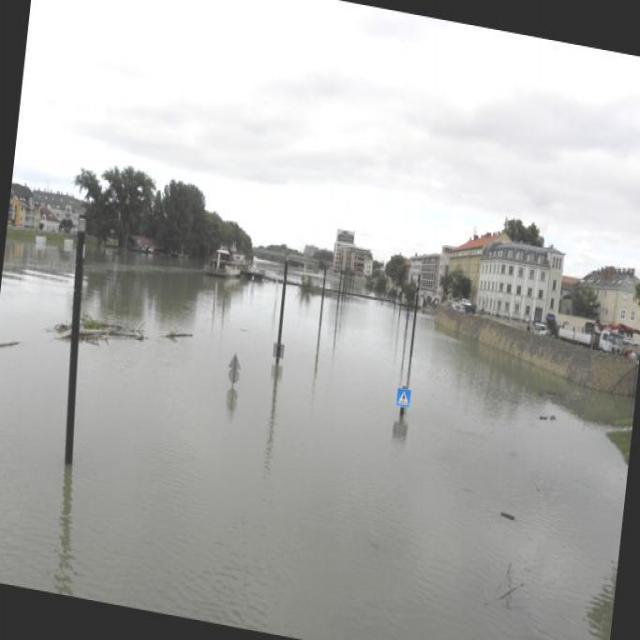flood: (0, 214, 639, 639)
